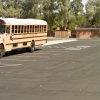Bus: (1, 11, 57, 56)
